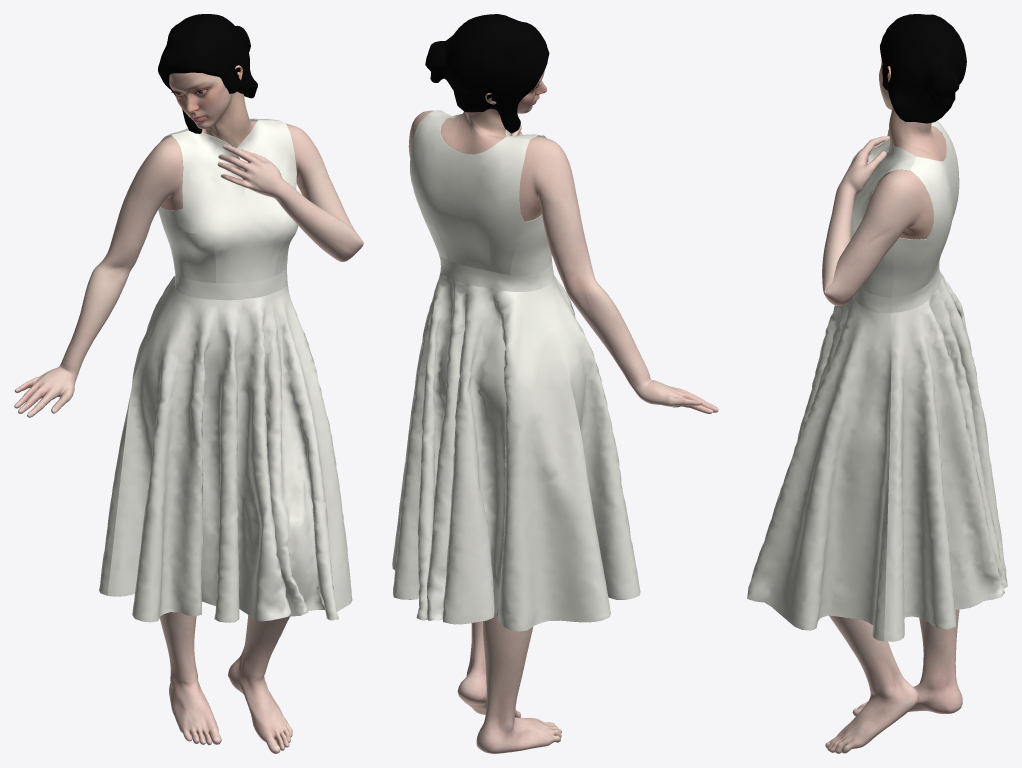
Rendered from Custom_View_2__Dramatic.obj.
The picture shows the model from 3 angles, left to right: view 1: azimuth 30°, elevation 25°; view 2: azimuth 150°, elevation 25°; view 3: azimuth 270°, elevation 25°; orthographic projection. The views are drawn at different scales.
Bounding box in the file's own units: 816 × 1767 × 582.
